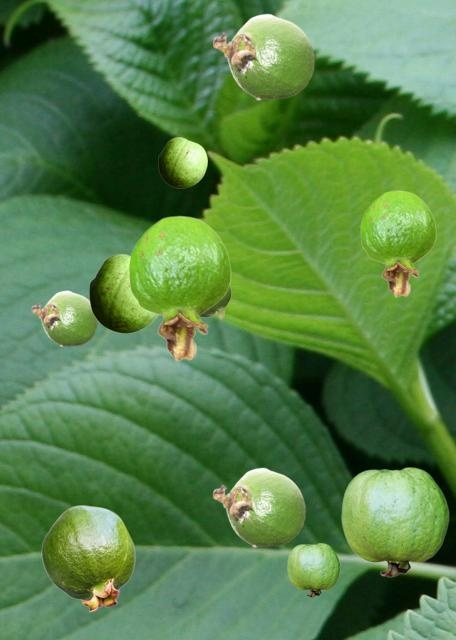guava: (128, 215, 230, 360), (341, 467, 448, 576), (41, 505, 134, 611), (212, 13, 314, 99), (360, 190, 435, 296), (212, 467, 305, 546), (89, 254, 158, 332), (31, 290, 97, 345), (287, 543, 339, 596), (158, 137, 206, 187), (200, 286, 230, 318)
